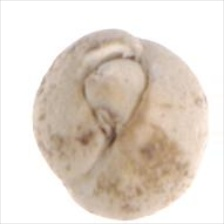L3: (75, 42, 154, 144)
L4: (32, 28, 208, 220)
